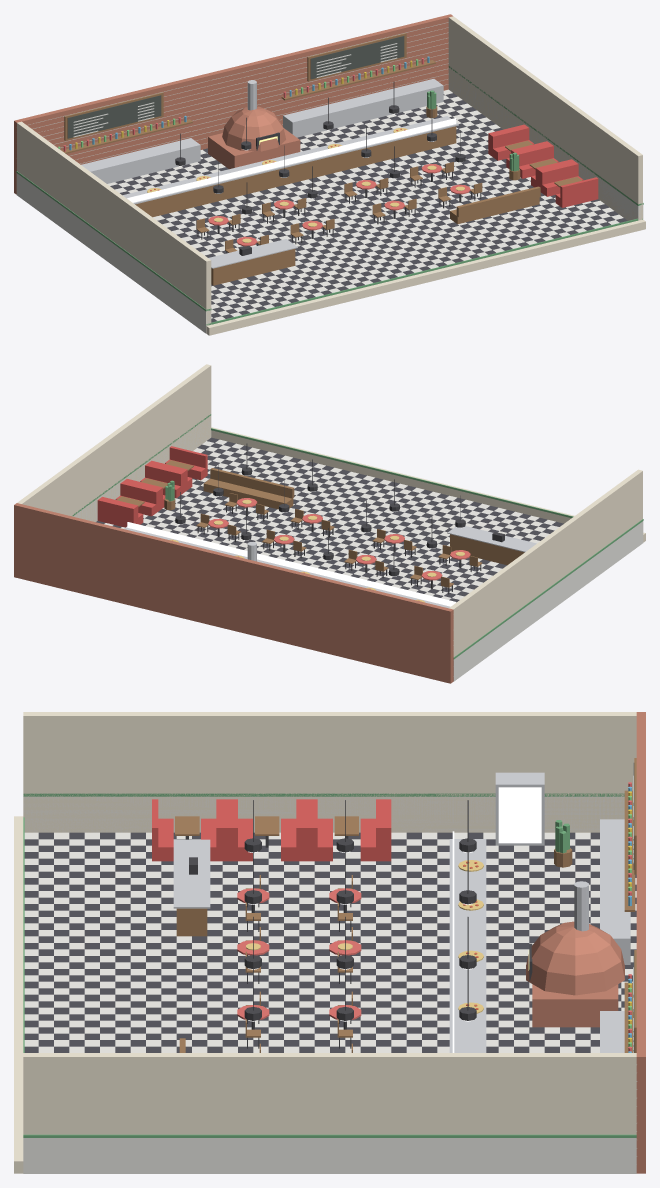
File: pizzazz-interior.glb
3 renders of one model, top to bottom at view 1: azimuth 30°, elevation 25°; view 2: azimuth 150°, elevation 25°; view 3: azimuth 270°, elevation 25°, orthographic. The views are drawn at different scales.
Parts seen in each view (by area): view 1: Pizzazz · White tile, Pizzazz · Cream wall, Pizzazz · Black tile, Pizzazz · Red brick, Pizzazz · Walnut, Pizzazz · Stainless, Pizzazz · Booth red, Pizzazz · Chalkboard, Pizzazz · Brick mortar, Pizzazz · Basil green, Pizzazz · Black metal, Pizzazz · Fridge glow (+3 smaller); view 2: Pizzazz · Red brick, Pizzazz · Cream wall, Pizzazz · White tile, Pizzazz · Black tile, Pizzazz · Walnut, Pizzazz · Booth red, Pizzazz · Black metal, Pizzazz · Fridge glow, Pizzazz · Basil green, Pizzazz · Stainless, Pizzazz · Red check cloth; view 3: Pizzazz · Cream wall, Pizzazz · White tile, Pizzazz · Black tile, Pizzazz · Stainless, Pizzazz · Red brick, Pizzazz · Booth red, Pizzazz · Walnut, Pizzazz · Basil green, Pizzazz · Black metal, Pizzazz · Fridge glow, Pizzazz · Red check cloth, Pizzazz · Pizza.
Part boxes in pixels (x1,y1,x2,y2): Pizzazz · White tile: (16, 68, 643, 333); Pizzazz · Cream wall: (17, 16, 645, 335); Pizzazz · Black tile: (110, 93, 627, 322); Pizzazz · Red brick: (14, 14, 452, 194); Pizzazz · Walnut: (61, 33, 581, 285); Pizzazz · Stainless: (81, 79, 458, 268); Pizzazz · Booth red: (488, 124, 598, 207); Pizzazz · Chalkboard: (67, 36, 404, 138); Pizzazz · Brick mortar: (16, 22, 448, 163); Pizzazz · Basil green: (16, 66, 643, 325); Pizzazz · Black metal: (175, 82, 481, 255); Pizzazz · Fridge glow: (127, 118, 456, 202); Pizzazz · Red brick: (14, 503, 453, 683); Pizzazz · Cream wall: (17, 364, 645, 656); Pizzazz · White tile: (73, 419, 643, 681); Pizzazz · Black tile: (96, 437, 563, 602); Pizzazz · Walnut: (116, 460, 524, 587); Pizzazz · Booth red: (97, 446, 207, 527); Pizzazz · Black metal: (175, 443, 504, 594); Pizzazz · Fridge glow: (127, 522, 456, 606); Pizzazz · Basil green: (72, 414, 643, 659); Pizzazz · Stainless: (124, 526, 536, 608); Pizzazz · Red check cloth: (208, 498, 470, 580); Pizzazz · Cream wall: (14, 712, 636, 1173); Pizzazz · White tile: (23, 796, 636, 1173); Pizzazz · Black tile: (24, 832, 636, 1052); Pizzazz · Stainless: (173, 772, 630, 1052); Pizzazz · Red brick: (526, 712, 645, 1173); Pizzazz · Booth red: (152, 799, 391, 861); Pizzazz · Walnut: (175, 758, 636, 1052); Pizzazz · Basil green: (23, 793, 636, 1137); Pizzazz · Black metal: (185, 800, 532, 1048); Pizzazz · Fridge glow: (452, 787, 541, 1052); Pizzazz · Red check cloth: (237, 888, 361, 1019); Pizzazz · Pizza: (246, 860, 483, 1013).
Size of the model in its own units: 26.66 by 4.25 by 20.6.
